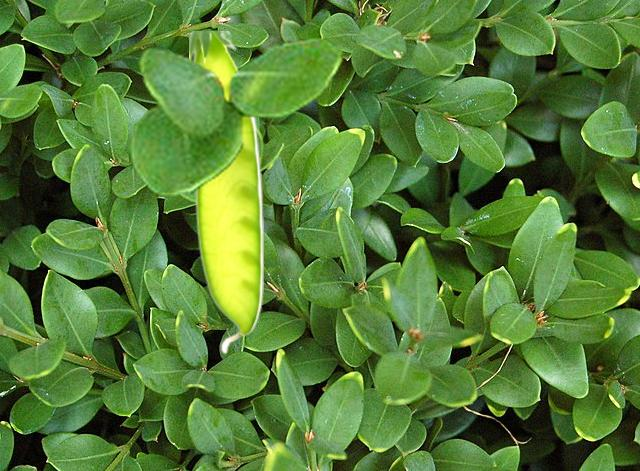pea: (189, 31, 262, 353)
